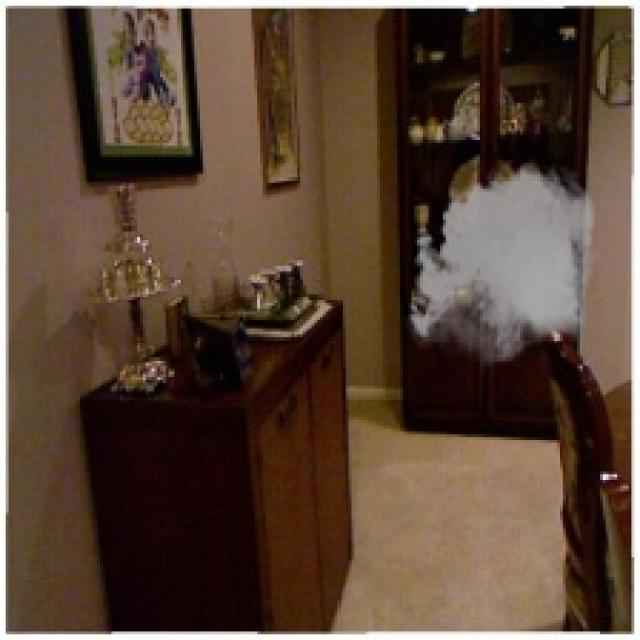smoke: (403, 154, 603, 374)
